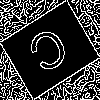C: (25, 25, 76, 82)
